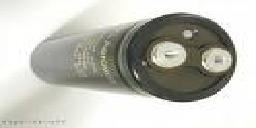Electrolytic-Capacitor: (29, 13, 238, 107)
